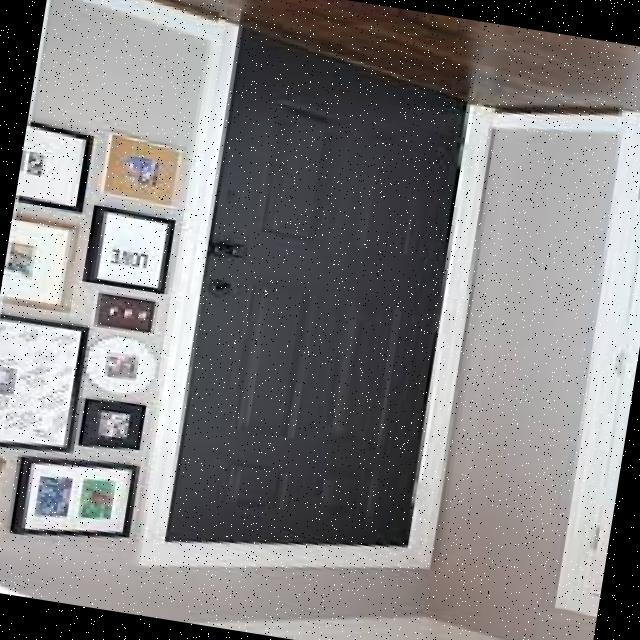Door: (152, 9, 497, 590)
